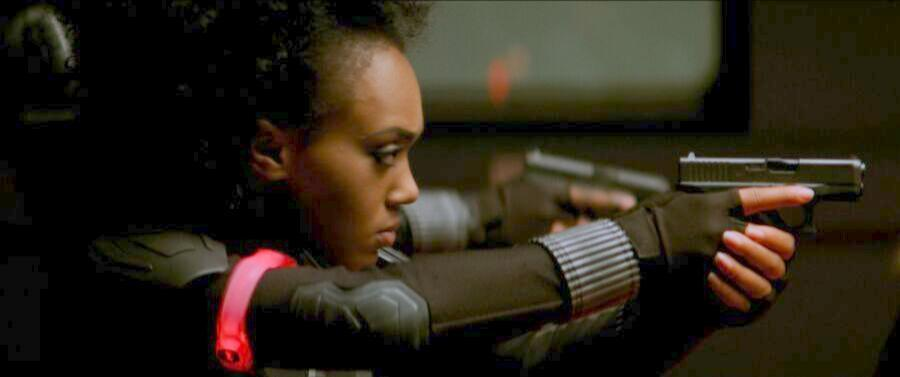gun: (666, 150, 872, 280), (516, 140, 676, 221)
